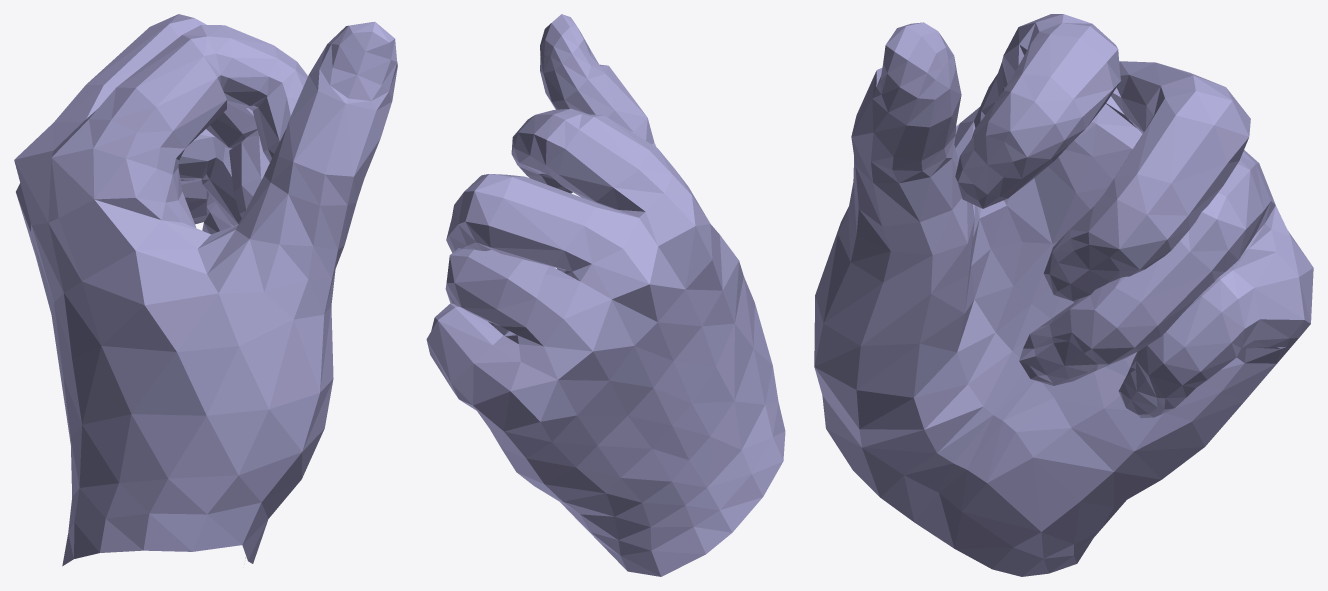
The model's file is frame_0004_source_000004_hand.glb.
The picture shows the model from 3 angles, left to right: view 1: azimuth 30°, elevation 25°; view 2: azimuth 150°, elevation 25°; view 3: azimuth 270°, elevation 25°; orthographic projection. The views are drawn at different scales.
Visible parts, largest first — view 1: world; view 2: world; view 3: world.
Part boxes in pixels (<box>): world: <box>14,14,397,566</box>; world: <box>426,14,785,576</box>; world: <box>814,14,1313,576</box>.
Size of the model in its own units: 0.068 by 0.1249 by 0.091.
